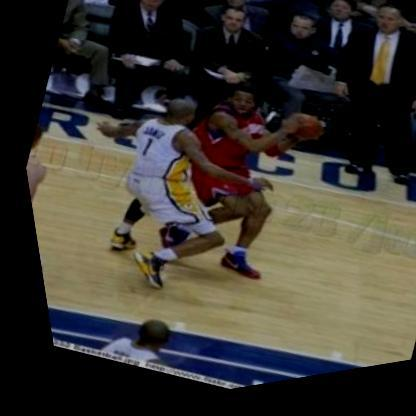basketball: (267, 111, 327, 166)
